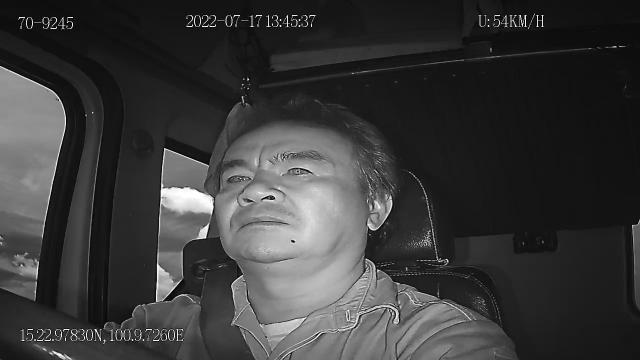SafeDriving: (275, 157, 322, 185), (217, 164, 255, 192)
Seatbelt: (197, 262, 260, 360)
